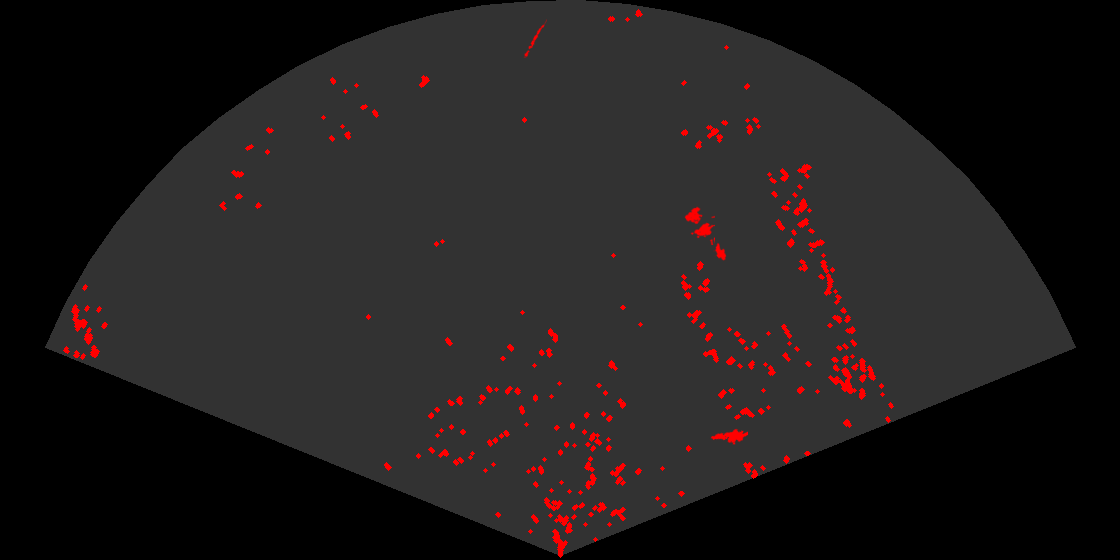AUV: (713, 241, 728, 262)
cage: (683, 205, 715, 245)
chain: (522, 19, 547, 58)
frogman: (709, 427, 748, 446)
